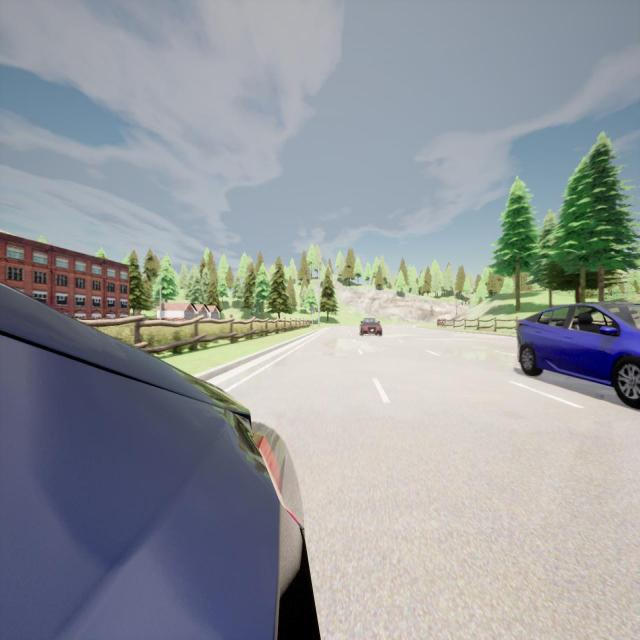Traffic_Signs: (311, 306, 315, 314)
Vehicle: (0, 280, 319, 638), (516, 302, 640, 408), (359, 316, 384, 336)
